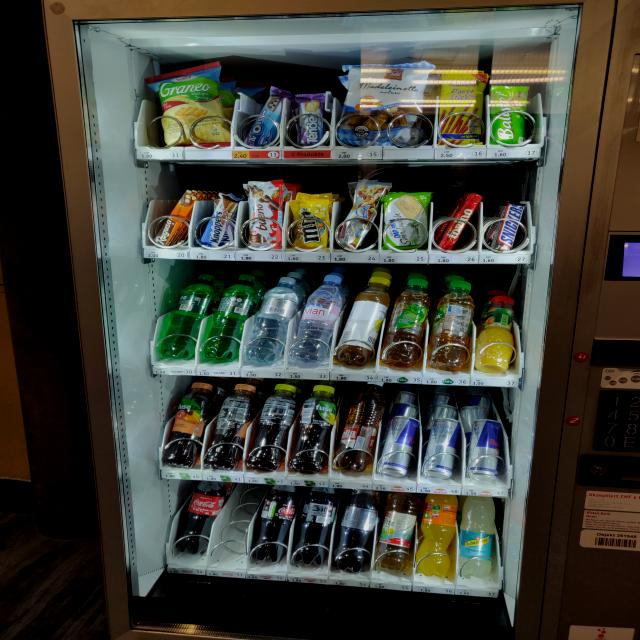balisto_muesli__37g__5000159418546: (491, 85, 533, 146)
bueno___43__4008400320328: (245, 176, 285, 248)
coke__flasche_50__54491472: (175, 484, 225, 556)
coke_light_flasche_50__5449238: (335, 495, 378, 573)
coke_zero_flasche_50__5449000131836: (294, 488, 337, 566), (252, 489, 296, 564)
darwida_sandwich____7610032065170: (382, 192, 434, 250)
erle____: (337, 60, 433, 146)
evian___50__3068320353500: (294, 275, 346, 365)
fanta___50__40822938: (416, 496, 461, 577)
fuse_lemon__50__5449000235947: (289, 384, 338, 474), (250, 383, 297, 471)
fuse_peach__50__5449000236623: (206, 384, 258, 470), (165, 383, 214, 467)
granini_orange__50__: (476, 294, 518, 372)
knoppers_riegel____4035800488808: (195, 193, 239, 248)
lorenz_studentenfutter____: (334, 184, 382, 253)
malburner_partysticks__40__7610200279682: (436, 68, 488, 146)
milka_oreo_riegel_37_1_7622210704740: (241, 87, 284, 149)
milka_tender____: (290, 92, 330, 148)
mnms_gelb__45__40111445: (289, 196, 331, 248)
ragusa___50__76401121: (155, 190, 195, 245)
ramseier_jusdepomme__50__7610057001078: (372, 497, 422, 572)
redbull___33__90162909: (379, 416, 422, 476), (421, 416, 462, 478), (469, 419, 501, 480)
rivella_rot__50__7610097111072: (336, 382, 387, 472)
schweppes_bitterlemon__50__: (455, 498, 500, 578)
snickers___50__5000159461122: (486, 202, 530, 252)
torino___46__76415272: (436, 191, 483, 251)
valser_classic__50__76404160: (159, 276, 217, 359), (202, 275, 257, 360)
valser_still__50__7610335002575: (246, 275, 303, 365)
volvic_teeminze__50__3057640335648: (384, 277, 434, 368), (429, 281, 476, 371)
zweifel_graneochilli__100__7610095184009: (148, 61, 229, 145)
